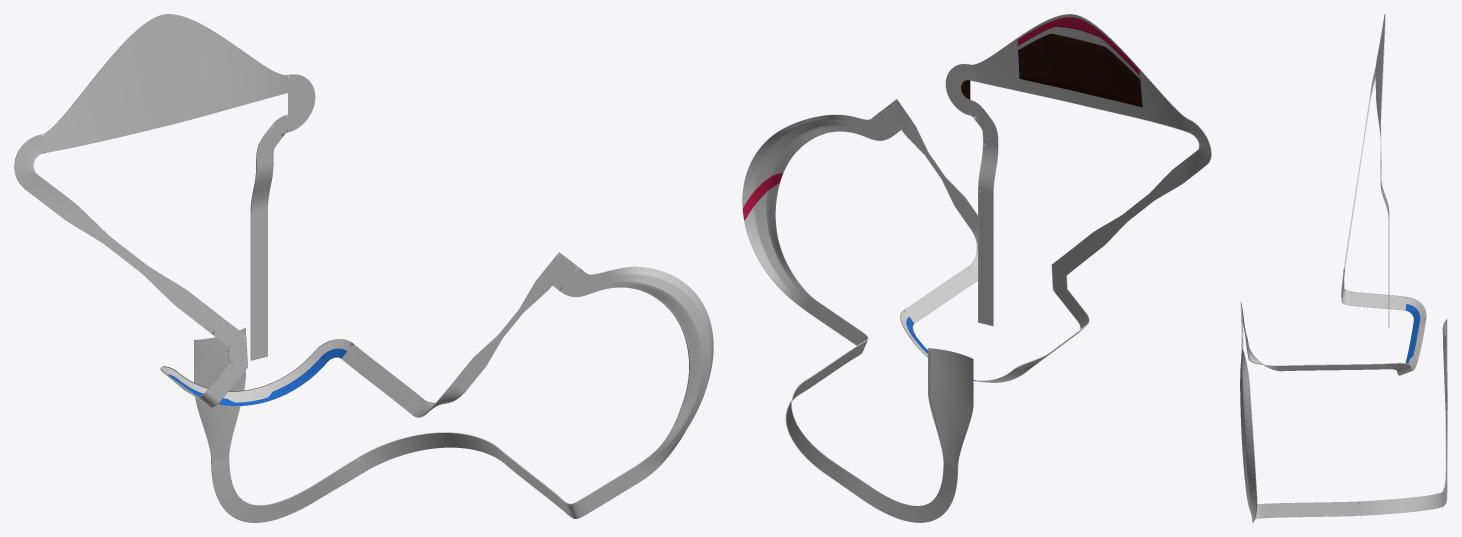
The model's file is track.obj.
3 renders of one model, left to right at view 1: azimuth 30°, elevation 25°; view 2: azimuth 150°, elevation 25°; view 3: azimuth 270°, elevation 25°, orthographic. The views are drawn at different scales.
Visible parts, largest first — view 1: MXTRoadSegment.017_PreviewMesh, MXTRoadSegment.001_PreviewMesh, MXTRoadSegment.095_PreviewMesh, MXTRoadSegment.027_PreviewMesh, MXTRoadSegment.115_PreviewMesh, MXTRoadSegment.058_PreviewMesh, MXTRoadSegment.068_PreviewMesh, MXTRoadSegment.121_PreviewMesh, MXTRoadSegment.079_PreviewMesh, MXTRoadSegment.012_PreviewMesh, MXTRoadSegment.111_PreviewMesh, MXTRoadSegment.020_PreviewMesh (+4 smaller); view 2: MXTRoadSegment.017_PreviewMesh, MXTRoadSegment.001_PreviewMesh, MXTRoadSegment.095_PreviewMesh, MXTRoadSegment.027_PreviewMesh, MXTRoadSegment.121_PreviewMesh, MXTRoadSegment.068_PreviewMesh, MXTRoadSegment.079_PreviewMesh, MXTRoadSegment.115_PreviewMesh, MXTRoadSegment.012_PreviewMesh, MXTRoadSegment.111_PreviewMesh, MXTRoadSegment.003_PreviewMesh, MXTRoadSegment.107_PreviewMesh (+3 smaller); view 3: MXTRoadSegment.095_PreviewMesh, MXTRoadSegment.111_PreviewMesh, MXTRoadSegment.115_PreviewMesh, MXTRoadSegment.050_PreviewMesh, MXTRoadSegment.001_PreviewMesh, MXTRoadSegment.017_PreviewMesh, MXTRoadSegment.058_PreviewMesh, MXTRoadSegment.068_PreviewMesh, MXTRoadSegment.027_PreviewMesh, MXTRoadSegment.053_PreviewMesh.
Part boxes in pixels (bbox=[...]): MXTRoadSegment.017_PreviewMesh: bbox=[42, 14, 287, 153]; MXTRoadSegment.001_PreviewMesh: bbox=[194, 327, 362, 522]; MXTRoadSegment.095_PreviewMesh: bbox=[603, 266, 713, 482]; MXTRoadSegment.027_PreviewMesh: bbox=[25, 175, 224, 334]; MXTRoadSegment.115_PreviewMesh: bbox=[357, 432, 505, 472]; MXTRoadSegment.058_PreviewMesh: bbox=[177, 351, 326, 405]; MXTRoadSegment.068_PreviewMesh: bbox=[341, 344, 422, 413]; MXTRoadSegment.121_PreviewMesh: bbox=[250, 258, 267, 360]; MXTRoadSegment.079_PreviewMesh: bbox=[453, 281, 547, 391]; MXTRoadSegment.012_PreviewMesh: bbox=[288, 74, 315, 132]; MXTRoadSegment.111_PreviewMesh: bbox=[500, 450, 592, 518]; MXTRoadSegment.020_PreviewMesh: bbox=[14, 134, 43, 189]; MXTRoadSegment.017_PreviewMesh: bbox=[970, 14, 1189, 133]; MXTRoadSegment.001_PreviewMesh: bbox=[827, 348, 973, 522]; MXTRoadSegment.095_PreviewMesh: bbox=[742, 114, 856, 315]; MXTRoadSegment.027_PreviewMesh: bbox=[1067, 150, 1206, 265]; MXTRoadSegment.121_PreviewMesh: bbox=[978, 234, 993, 326]; MXTRoadSegment.068_PreviewMesh: bbox=[904, 266, 977, 323]; MXTRoadSegment.079_PreviewMesh: bbox=[904, 126, 977, 229]; MXTRoadSegment.115_PreviewMesh: bbox=[785, 379, 832, 474]; MXTRoadSegment.012_PreviewMesh: bbox=[945, 63, 970, 115]; MXTRoadSegment.111_PreviewMesh: bbox=[801, 327, 868, 393]; MXTRoadSegment.003_PreviewMesh: bbox=[978, 143, 998, 194]; MXTRoadSegment.107_PreviewMesh: bbox=[812, 301, 856, 341]; MXTRoadSegment.095_PreviewMesh: bbox=[1240, 340, 1257, 522]; MXTRoadSegment.111_PreviewMesh: bbox=[1255, 501, 1359, 519]; MXTRoadSegment.115_PreviewMesh: bbox=[1359, 492, 1443, 515]; MXTRoadSegment.050_PreviewMesh: bbox=[1349, 291, 1407, 310]; MXTRoadSegment.001_PreviewMesh: bbox=[1442, 319, 1447, 505]; MXTRoadSegment.017_PreviewMesh: bbox=[1375, 14, 1385, 138]; MXTRoadSegment.058_PreviewMesh: bbox=[1397, 319, 1426, 375]; MXTRoadSegment.068_PreviewMesh: bbox=[1282, 363, 1387, 371]; MXTRoadSegment.027_PreviewMesh: bbox=[1347, 65, 1375, 252]; MXTRoadSegment.053_PreviewMesh: bbox=[1405, 297, 1426, 320].
Bounding box in the file's own units: 3247 × 2904 × 1292.
